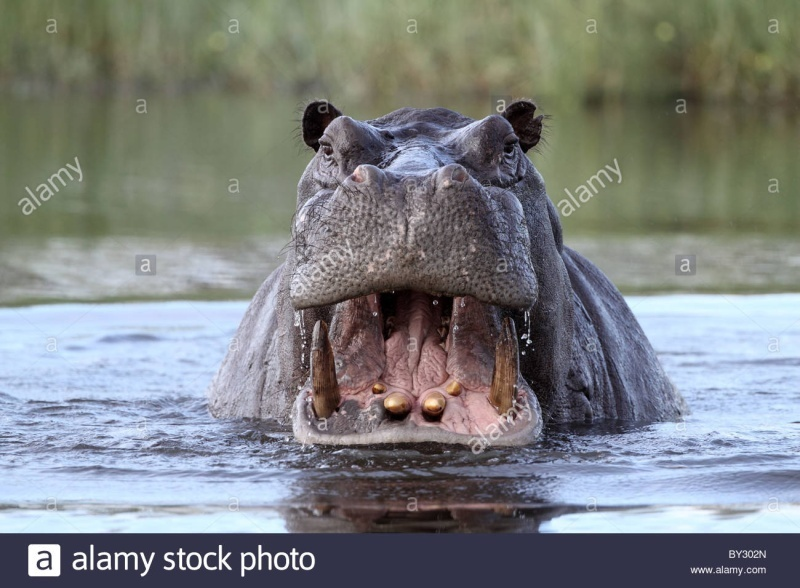hipopotamo: (208, 91, 699, 454)
